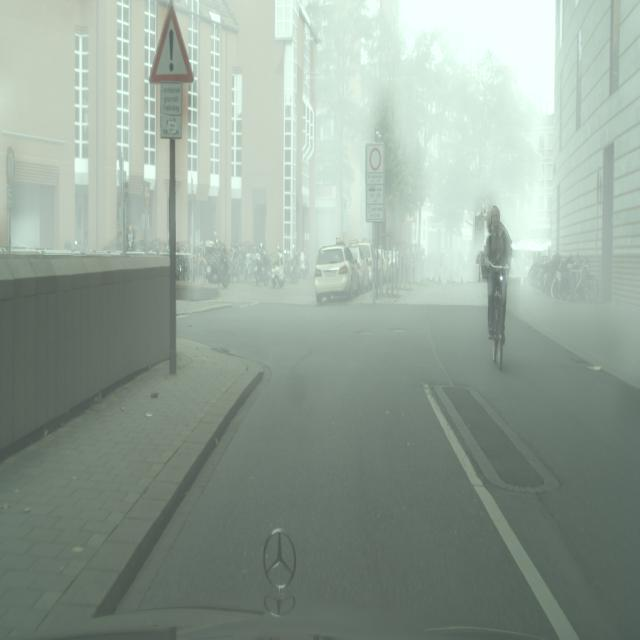bus: (314, 244, 357, 304), (348, 242, 368, 294), (359, 242, 374, 289)
car: (486, 210, 511, 369)
truck: (205, 245, 231, 288), (271, 248, 286, 289)
